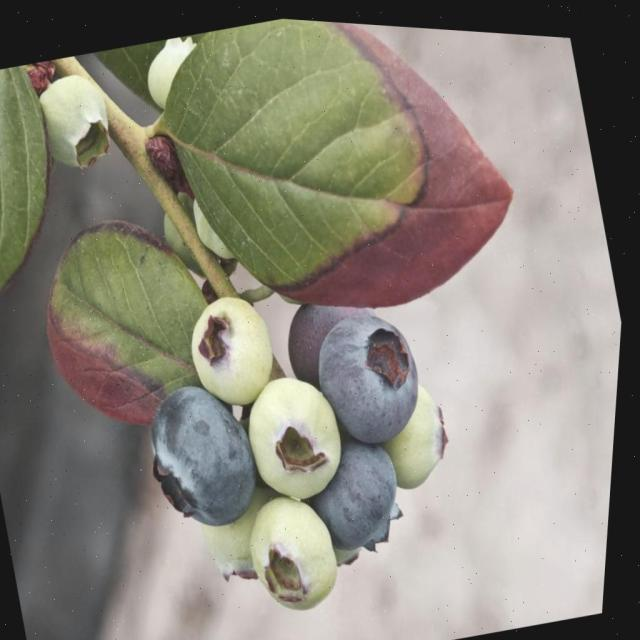RipeBlueBerry: (135, 362, 282, 542), (305, 292, 443, 457)
UnripeBlueBerry: (236, 354, 366, 512), (240, 480, 360, 620), (180, 278, 296, 414)
